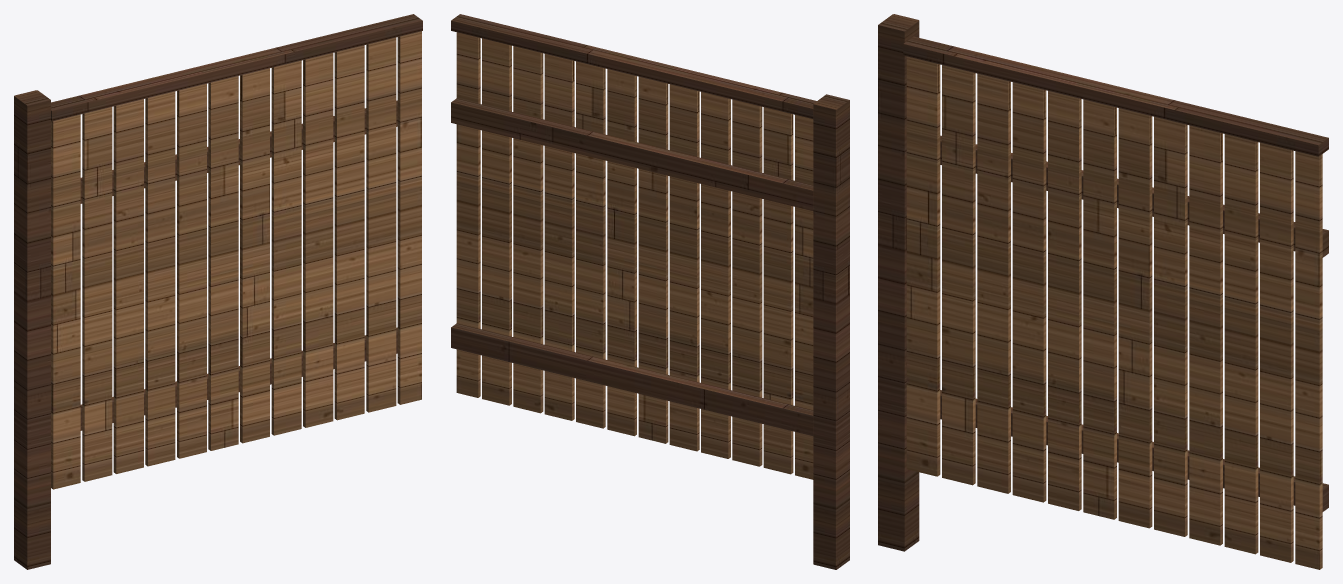
Rendered from fence_w2.glb.
3 views of the same model, side by side, from view 1: azimuth 30°, elevation 25°; view 2: azimuth 150°, elevation 25°; view 3: azimuth 330°, elevation 25° (orthographic). The views are drawn at different scales.
Visible parts, largest first — view 1: fence_w2_wood, fence_w2_dkwood; view 2: fence_w2_wood, fence_w2_dkwood; view 3: fence_w2_wood, fence_w2_dkwood.
Boxes of the visible parts, bbox=[...] form: fence_w2_wood: bbox=[51, 31, 421, 489]; fence_w2_dkwood: bbox=[14, 14, 422, 569]; fence_w2_wood: bbox=[456, 32, 813, 479]; fence_w2_dkwood: bbox=[451, 14, 849, 569]; fence_w2_wood: bbox=[906, 56, 1322, 569]; fence_w2_dkwood: bbox=[878, 14, 1328, 551].
Size of the model in its own units: 2 by 2.25 by 0.13.
Materials: 2 (2 with a texture image).
